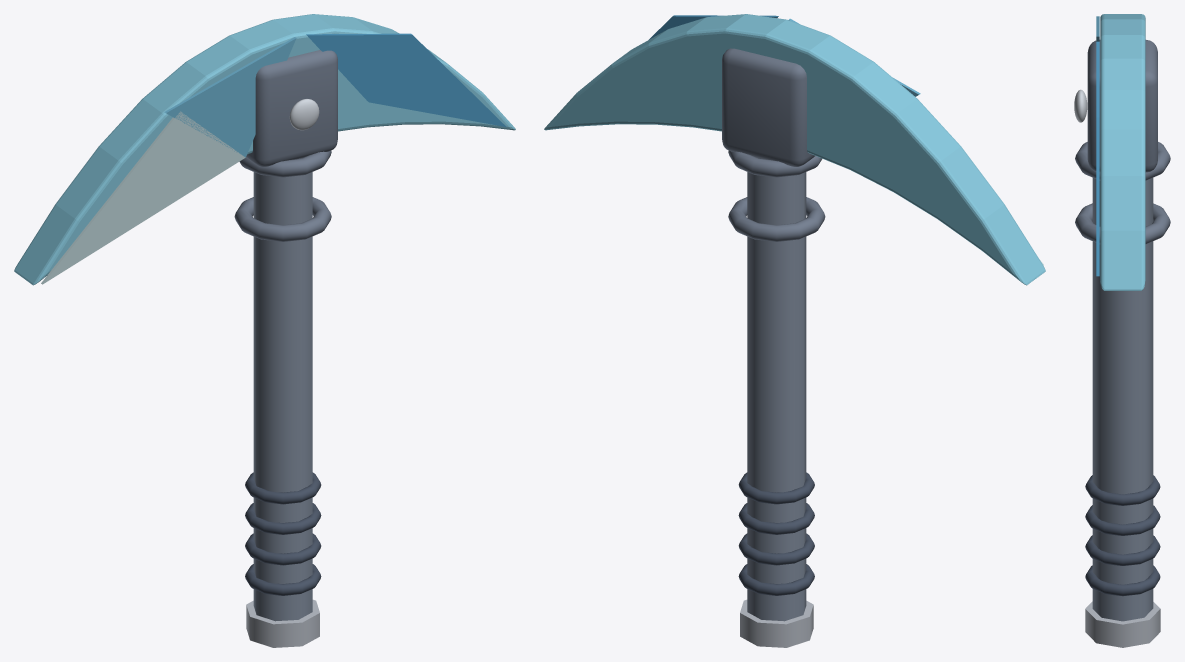
Rendered from pick4.glb.
3 renders of one model, left to right at view 1: azimuth 30°, elevation 25°; view 2: azimuth 150°, elevation 25°; view 3: azimuth 270°, elevation 25°, orthographic.
Visible parts, largest first — view 1: _profile, _cyl, _box; view 2: _profile, _cyl, _box; view 3: _cyl, _profile, _box.
Part boxes in pixels (x1,y1,x2,y2): _profile: (14,14,515,285); _cyl: (245,158,321,647); _box: (234,50,337,241); _profile: (544,14,1045,285); _cyl: (738,158,814,647); _box: (722,48,825,241); _cyl: (1085,178,1160,647); _profile: (1096,14,1145,290); _box: (1074,40,1170,243).
Size of the model in its own units: 0.7454 by 0.8956 by 0.131.
